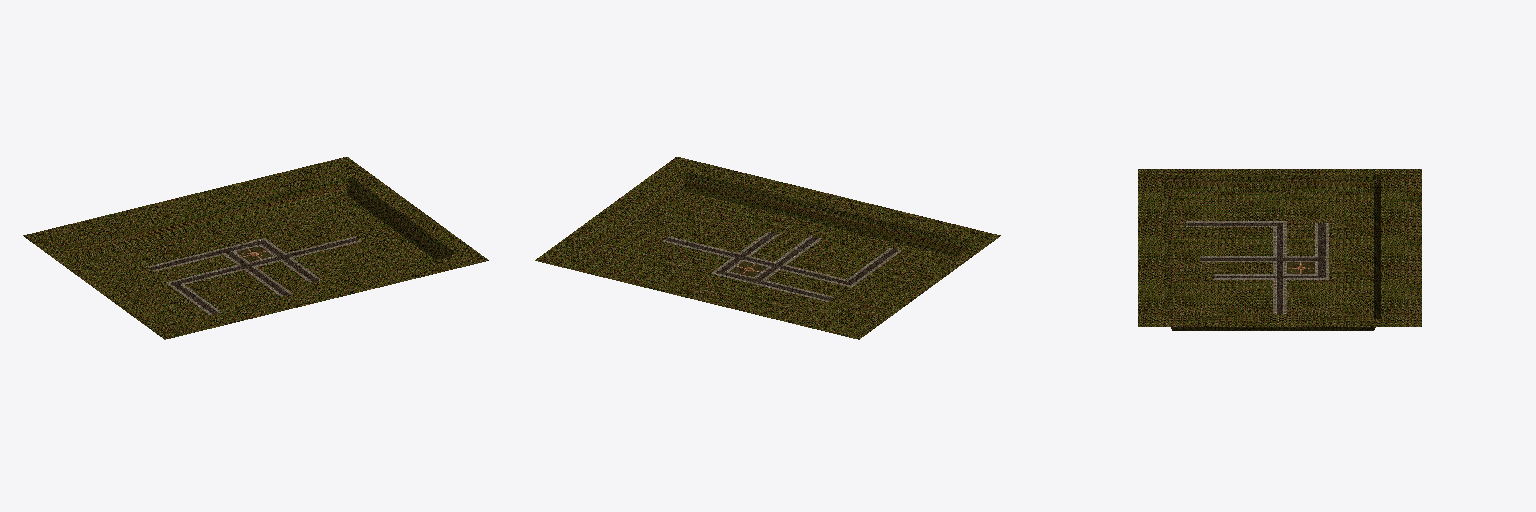
The picture shows the model from 3 angles: view 1: azimuth 30°, elevation 25°; view 2: azimuth 150°, elevation 25°; view 3: azimuth 270°, elevation 25°; orthographic projection.
Parts seen in each view (by area): view 1: Plane; view 2: Plane; view 3: Plane.
Part boxes in pixels (bbox=[...]): Plane: bbox=[23, 157, 488, 339]; Plane: bbox=[535, 157, 1000, 339]; Plane: bbox=[1138, 169, 1421, 330].
Bounding box in the file's own units: 27 × 1.24 × 20.5.
9 materials, 6 textured.